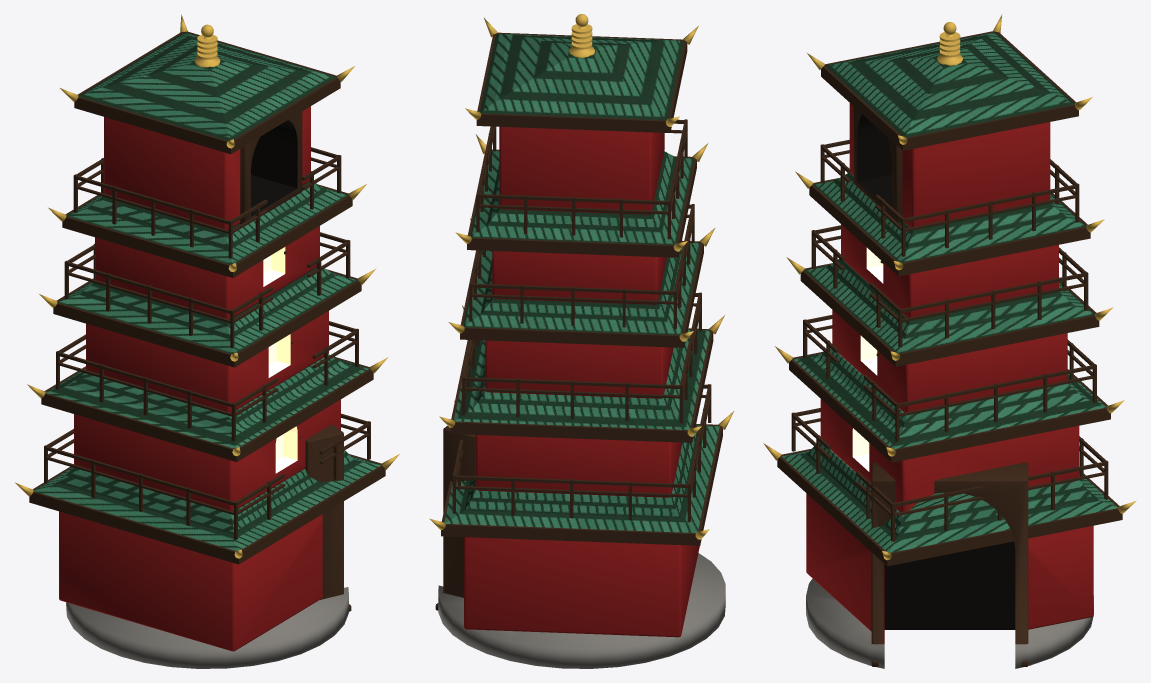
Rendered from pagoda.glb.
The picture shows the model from 3 angles, left to right: view 1: azimuth 30°, elevation 25°; view 2: azimuth 150°, elevation 25°; view 3: azimuth 270°, elevation 25°; orthographic projection.
Parts seen in each view (by area): view 1: tiers, roofs, eaves, woodwork, platform, hole-frame.001, door-frame.005, finial.003; view 2: tiers, roofs, eaves, woodwork, platform, door-frame.005, finial.003; view 3: tiers, roofs, eaves, woodwork, platform, door-frame.005, hole-frame.001, finial.003.
Part boxes in pixels (x1,y1,x2,y2): tiers: (59,106,340,651); roofs: (34,32,380,550); eaves: (29,31,385,564); woodwork: (44,147,370,539); platform: (66,587,348,668); hole-frame.001: (239,111,302,224); door-frame.005: (305,424,351,611); finial.003: (15,14,399,558); tiers: (464,126,699,637); roofs: (444,34,719,532); eaves: (441,32,722,545); woodwork: (452,119,711,522); platform: (438,553,725,668); door-frame.005: (435,425,475,610); finial.003: (429,14,733,539); tiers: (806,103,1093,643); roofs: (782,32,1117,552); eaves: (777,31,1122,566); woodwork: (791,139,1108,541); platform: (806,578,1093,668); door-frame.005: (871,462,1028,666); hole-frame.001: (854,107,902,222); finial.003: (763,14,1136,560).
Size of the model in its own units: 8.58 by 15 by 8.58.
9 materials, 1 textured.
